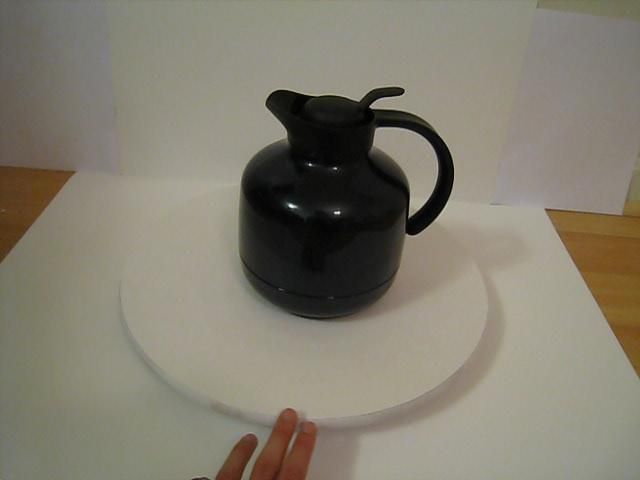pitcher: (227, 71, 460, 336)
